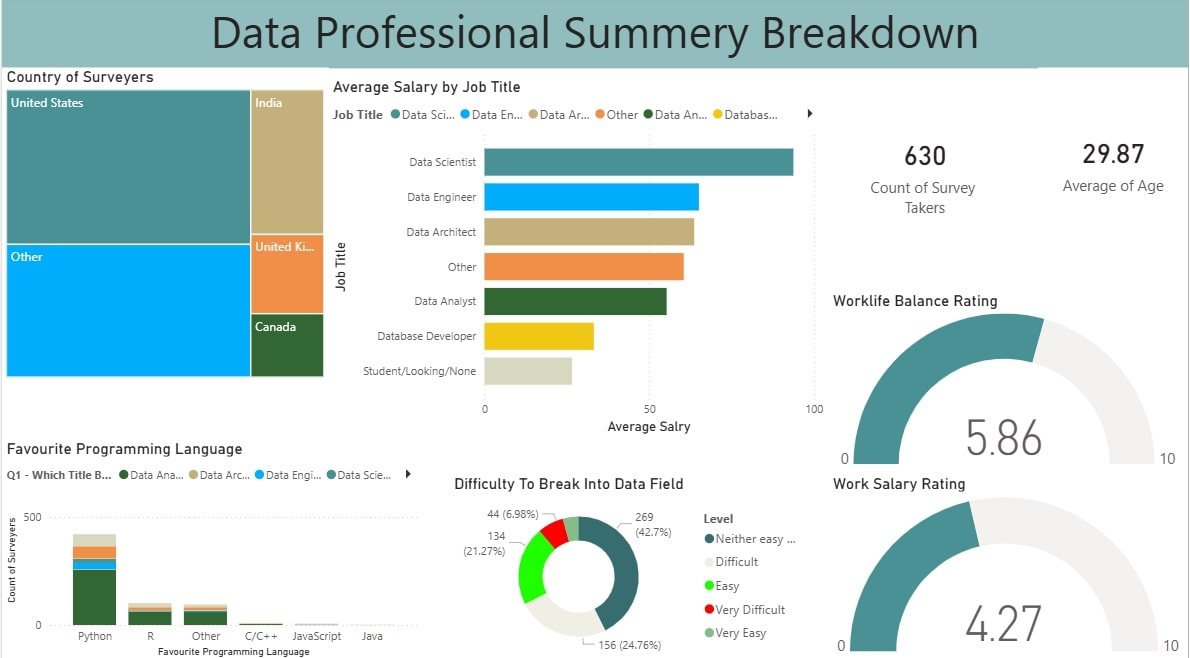

This screenshot's page, from the dashboard's own definition file:
{"tool":"powerbi","page":{"name":"Page 1","canvas":[1280,720],"ordinal":0},"visuals":[{"type":"textbox","box":[0,0,1280.3,79.6],"z":0},{"type":"card","fields":{"Values":["CountNonNull(Data Professional Survey.Unique ID)"]},"box":[904.9,80.3,182,203.3],"z":1000},{"type":"card","fields":{"Values":["Avg(Data Professional Survey.Q10 - Current Age)"]},"box":[1118,78.7,162.3,204.9],"z":2000},{"type":"barChart","title":"Average Salary by Job Title ","fields":{"Category":["Data Professional Survey.Q1 - Which Title Best Fits your Current Role?.1"],"Y":["Avg(Data Professional Survey.Average Salary)"],"Series":["Data Professional Survey.Q1 - Which Title Best Fits your Current Role?.1"]},"box":[352.5,88.5,539.3,390.2],"z":3000},{"type":"columnChart","title":"Favourite Programming Language","fields":{"Category":["Data Professional Survey.Q5 - Favorite Programming Language.1"],"Y":["CountNonNull(Data Professional Survey.Unique ID)"],"Series":["Data Professional Survey.Q1 - Which Title Best Fits your Current Role?.1"]},"box":[0,479,453,241],"z":4000},{"type":"treemap","title":"Country of Surveyers","fields":{"Group":["Data Professional Survey.Q11 - Which Country do you live in?.1"],"Values":["CountNonNull(Data Professional Survey.Q11 - Which Country do you live in?.1)"]},"box":[0,78.7,352.5,339.3],"z":4001},{"type":"gauge","title":"Worklife Balance Rating","fields":{"Y":["Avg(Data Professional Survey.Q6 - How Happy are you in your Current Position with the following? (Coworkers))"],"MinValue":["Min(Data Professional Survey.Q6 - How Happy are you in your Current Position with the following? (Coworkers))1"],"MaxValue":["Max(Data Professional Survey.Q6 - How Happy are you in your Current Position with the following? (Coworkers))2"]},"box":[891.8,319.7,388.5,196.7],"z":4002},{"type":"gauge","title":"Work Salary Rating","fields":{"Y":["Avg(Data Professional Survey.Q6 - How Happy are you in your Current Position with the following? (Salary))"],"MinValue":["Min(Data Professional Survey.Q6 - How Happy are you in your Current Position with the following? (Salary))"],"MaxValue":["Max(Data Professional Survey.Q6 - How Happy are you in your Current Position with the following? (Salary))"]},"box":[891.8,516.4,388.5,203.3],"z":4003},{"type":"donutChart","title":"Difficulty To Break Into Data Field","fields":{"Category":["Data Professional Survey.Q7 - How difficult was it for you to break into Data?"],"Y":["CountNonNull(Data Professional Survey.Q7 - How difficult was it for you to break into Data?)"]},"box":[483.6,516.4,395.1,203.3],"z":4004}]}

Visuals, with their boxes in screenshot pixels (x1, y1, x2, y2), scaled from the page's 1280x720 canvas onto the 1190x658 screenshot:
textbox: box=[0, 0, 1189, 73]
card - CountNonNull(Data Professional Survey.Unique ID): box=[841, 73, 1010, 259]
card - Avg(Data Professional Survey.Q10 - Current Age): box=[1039, 72, 1189, 259]
"Average Salary by Job Title " barChart: box=[328, 81, 829, 437]
"Favourite Programming Language" columnChart: box=[0, 438, 421, 657]
"Country of Surveyers" treemap: box=[0, 72, 328, 382]
"Worklife Balance Rating" gauge: box=[829, 292, 1189, 472]
"Work Salary Rating" gauge: box=[829, 472, 1189, 657]
"Difficulty To Break Into Data Field" donutChart: box=[450, 472, 817, 657]
